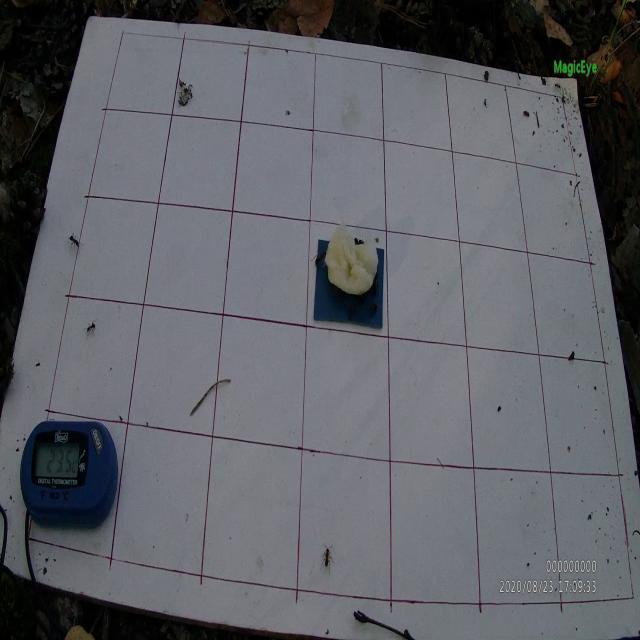Ant: (319, 543, 335, 575), (67, 231, 84, 255), (310, 249, 326, 267), (84, 318, 99, 336)
